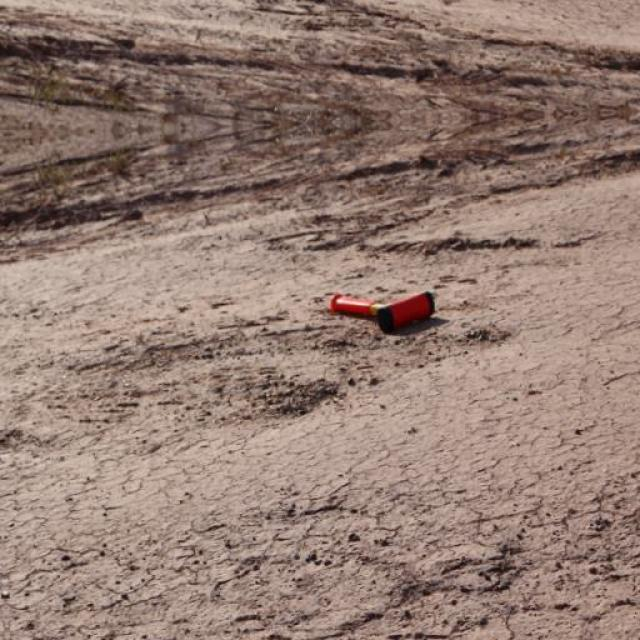mallet: (327, 288, 435, 334)
